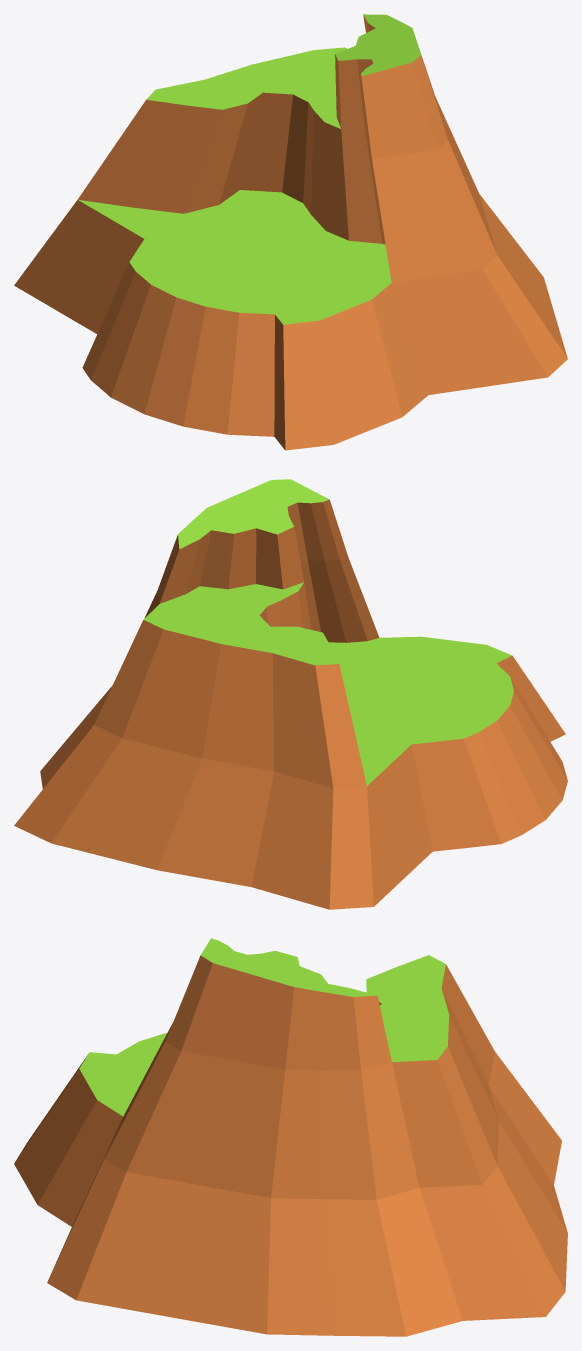
File: environment.fbx
The picture shows the model from 3 angles, top to bottom: view 1: azimuth 30°, elevation 25°; view 2: azimuth 150°, elevation 25°; view 3: azimuth 270°, elevation 25°; orthographic projection. The views are drawn at different scales.
Visible parts, largest first — view 1: Plane; view 2: Plane; view 3: Plane.
Part boxes in pixels (left/top/right/bottom): Plane: left=14, top=14, right=567, bottom=450; Plane: left=14, top=479, right=567, bottom=909; Plane: left=14, top=938, right=567, bottom=1336.
Size of the model in its own units: 1369 by 803 by 1367.
